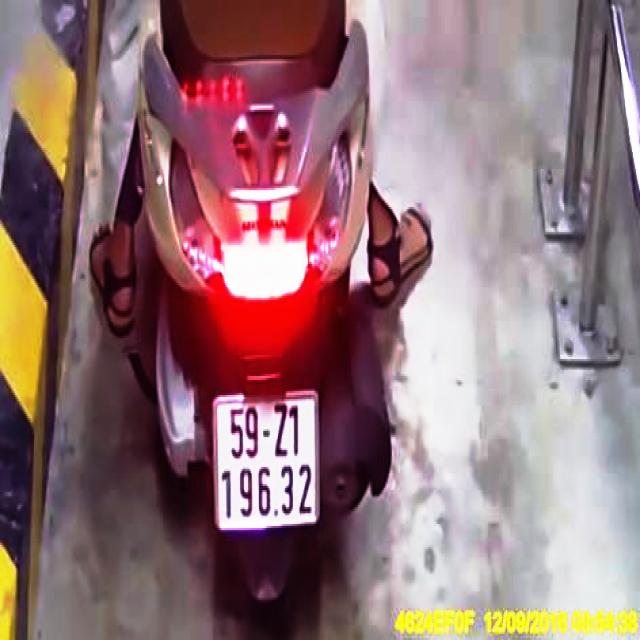license_plate: (215, 393, 323, 530)
